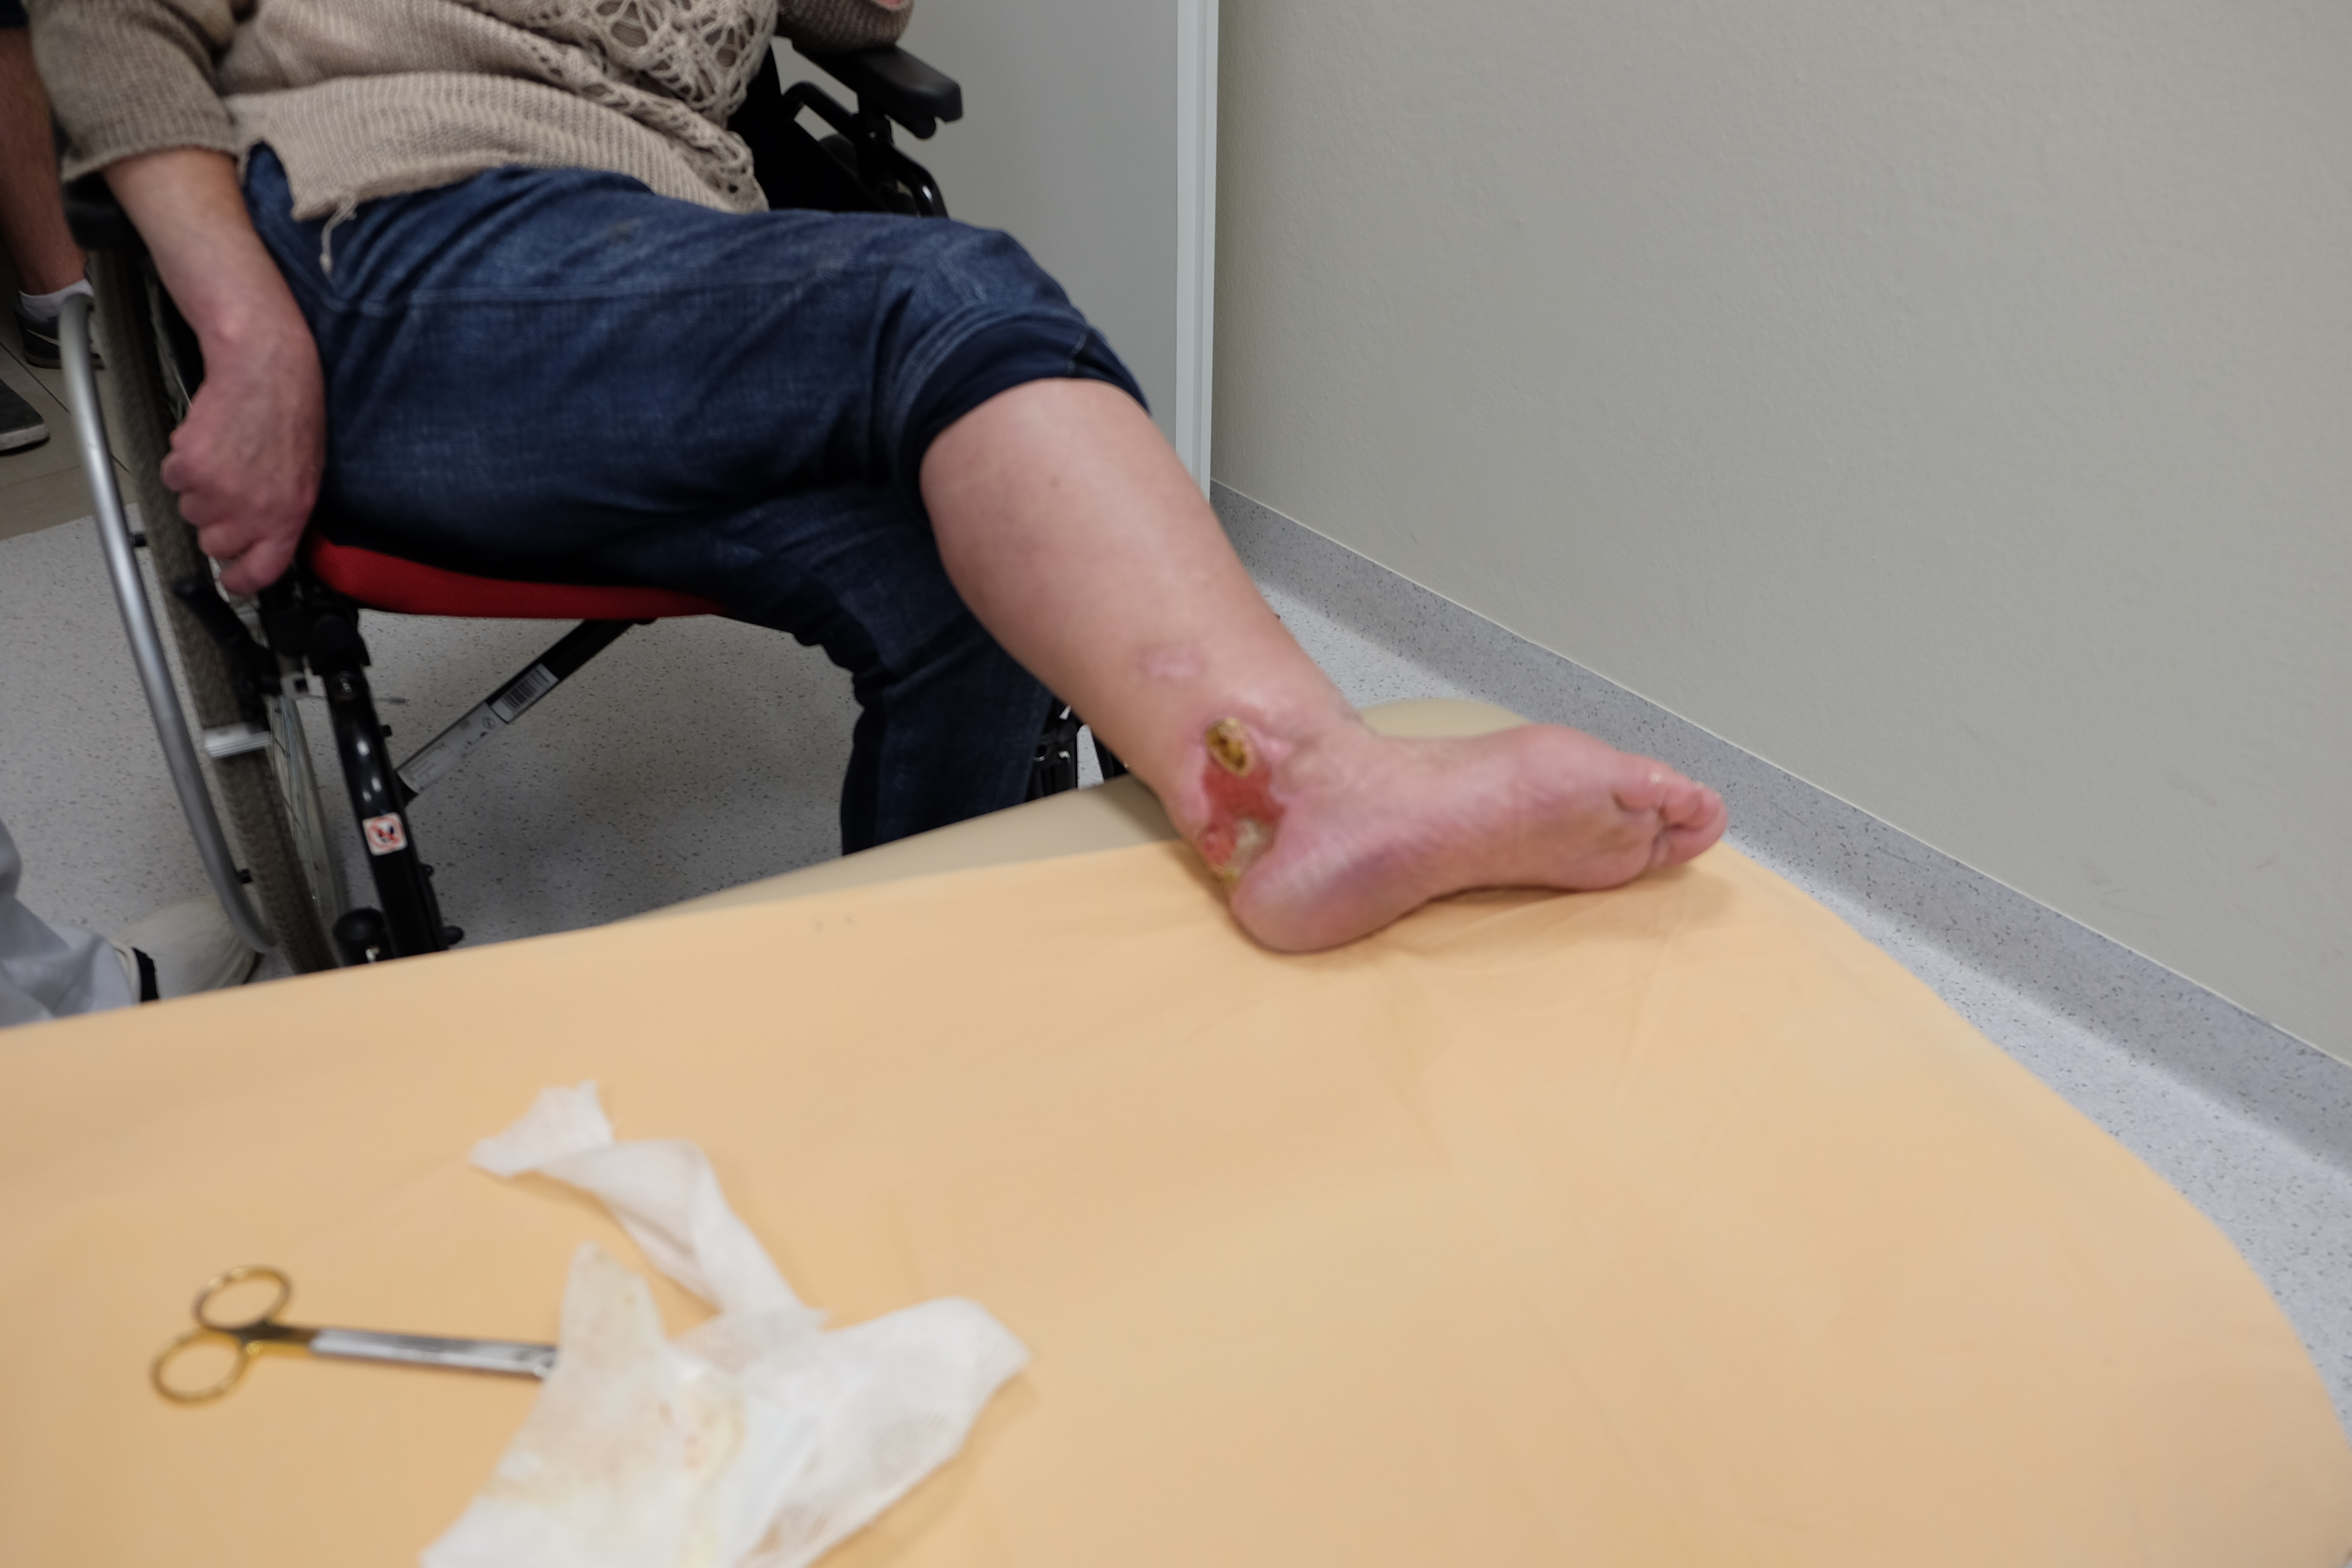wound: (1186, 707, 1291, 875)
